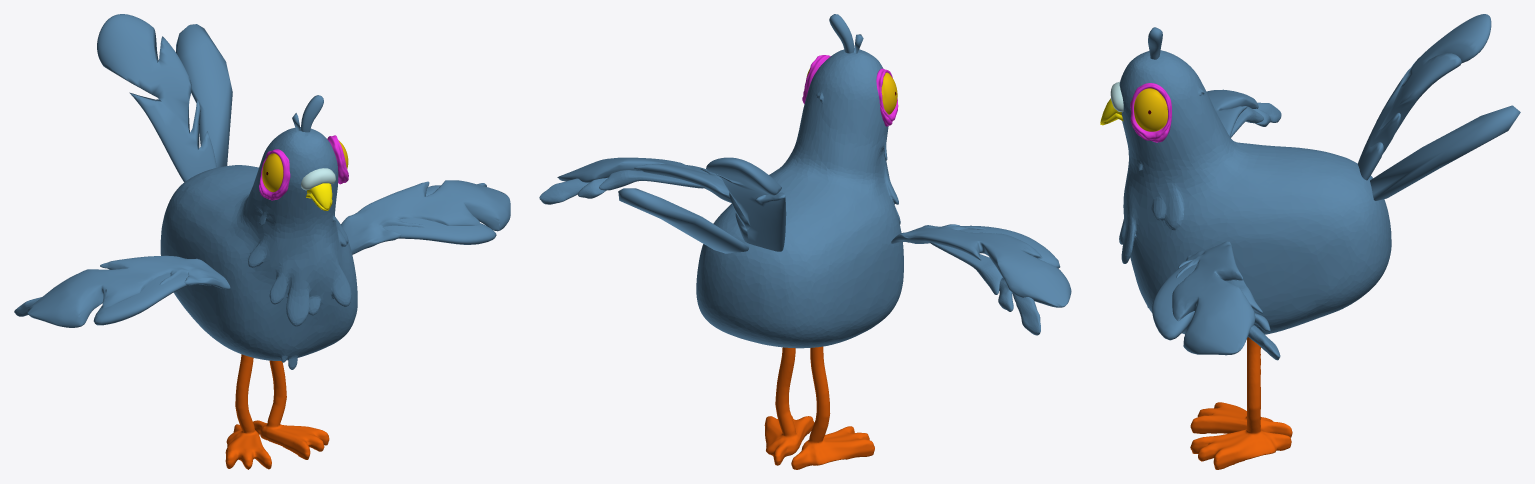
Rendered from Taube_4.6..glb.
3 views of the same model, side by side, from view 1: azimuth 30°, elevation 25°; view 2: azimuth 150°, elevation 25°; view 3: azimuth 270°, elevation 25° (orthographic). The views are drawn at different scales.
Parts seen in each view (by area): view 1: Körper.001, Schwanzfeder 1, Flügel 3.001, Flügel 3, Füße, Schwanzfeder 2, Augen, Schnabelblob; view 2: Körper.001, Flügel 3, Füße, Flügel 3.001, Schwanzfeder 1, Schwanzfeder 2, Augen; view 3: Körper.001, Flügel 3.001, Füße, Schwanzfeder 1, Schwanzfeder 2, Augen, Flügel 3.
Boxes of the visible parts, left/top/right/bottom form: Körper.001: left=160, top=127, right=357, bottom=369; Schwanzfeder 1: left=97, top=14, right=216, bottom=182; Flügel 3.001: left=341, top=180, right=510, bottom=254; Flügel 3: left=14, top=255, right=230, bottom=327; Füße: left=225, top=354, right=329, bottom=469; Schwanzfeder 2: left=176, top=24, right=232, bottom=167; Augen: left=259, top=135, right=348, bottom=200; Schnabelblob: left=301, top=168, right=335, bottom=190; Körper.001: left=696, top=49, right=903, bottom=348; Flügel 3: left=891, top=224, right=1071, bottom=335; Füße: left=764, top=346, right=874, bottom=469; Flügel 3.001: left=539, top=157, right=731, bottom=204; Schwanzfeder 1: left=706, top=157, right=786, bottom=251; Schwanzfeder 2: left=618, top=188, right=749, bottom=253; Augen: left=802, top=55, right=898, bottom=126; Körper.001: left=1119, top=50, right=1391, bottom=334; Flügel 3.001: left=1152, top=241, right=1280, bottom=360; Füße: left=1190, top=337, right=1292, bottom=469; Schwanzfeder 1: left=1357, top=14, right=1491, bottom=180; Schwanzfeder 2: left=1370, top=105, right=1520, bottom=200; Augen: left=1130, top=83, right=1171, bottom=142; Flügel 3: left=1206, top=89, right=1281, bottom=137.
Size of the model in its own units: 5.99 by 4.54 by 4.09.
